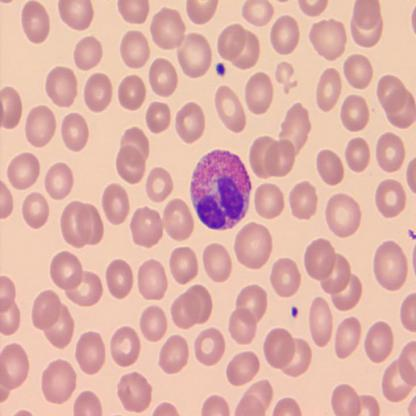Eosinophil: (188, 148, 252, 232)
